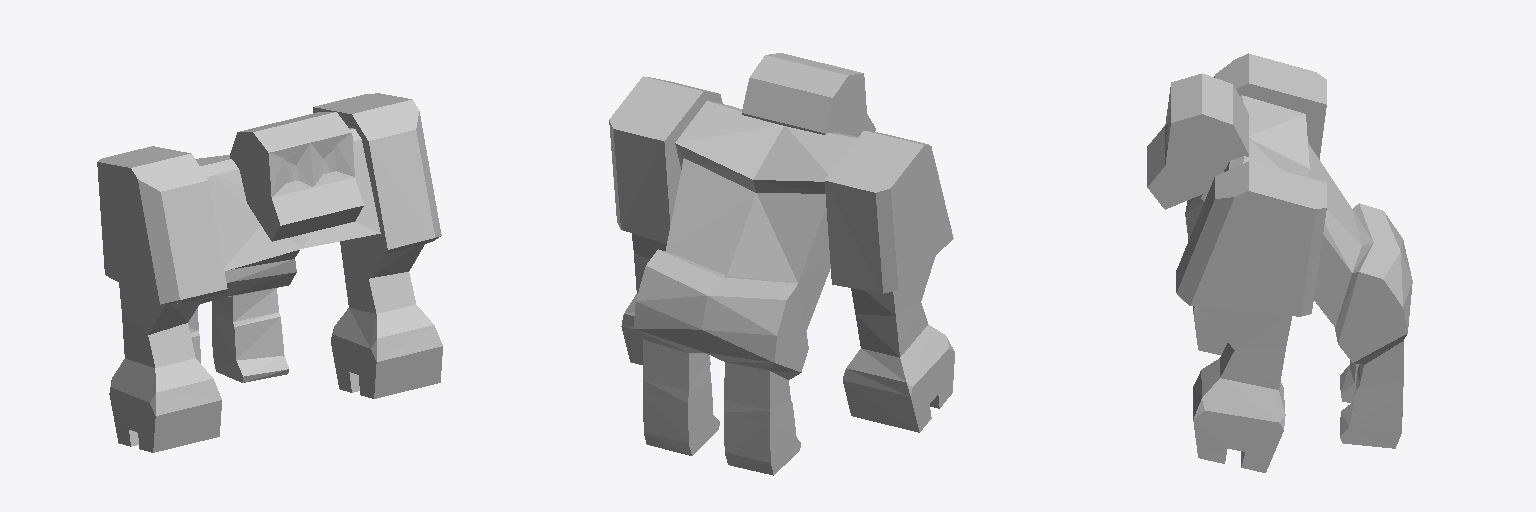
File: kong_000015.obj
3 views of the same model, side by side, from view 1: azimuth 30°, elevation 25°; view 2: azimuth 150°, elevation 25°; view 3: azimuth 270°, elevation 25° (orthographic).
Visible parts, largest first — view 1: Cube; view 2: Cube; view 3: Cube.
Boxes of the visible parts, x1,y1,x2,y2 form: Cube: [97, 93, 442, 452]; Cube: [609, 53, 954, 475]; Cube: [1147, 53, 1412, 472].
Bounding box in the file's own units: 5.84 × 6.27 × 4.64.